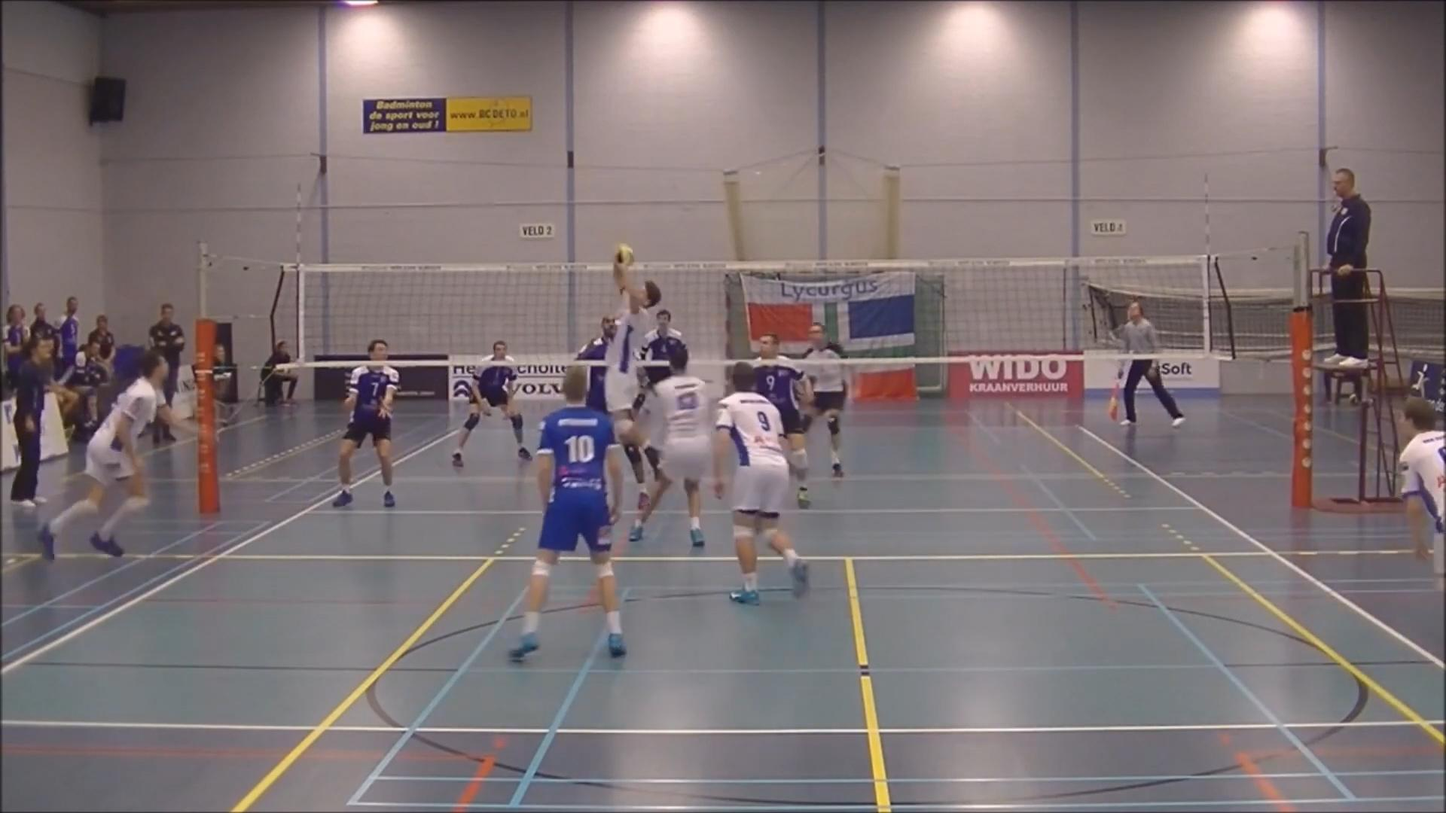Player: (508, 366, 625, 662), (38, 349, 180, 559), (712, 362, 808, 604), (629, 347, 712, 547), (332, 340, 399, 507), (753, 333, 811, 507), (452, 340, 531, 467), (1399, 397, 1445, 583), (802, 323, 847, 477), (633, 309, 685, 415), (635, 466, 643, 483)
Set: (595, 259, 678, 436)
ball: (606, 240, 640, 271)
